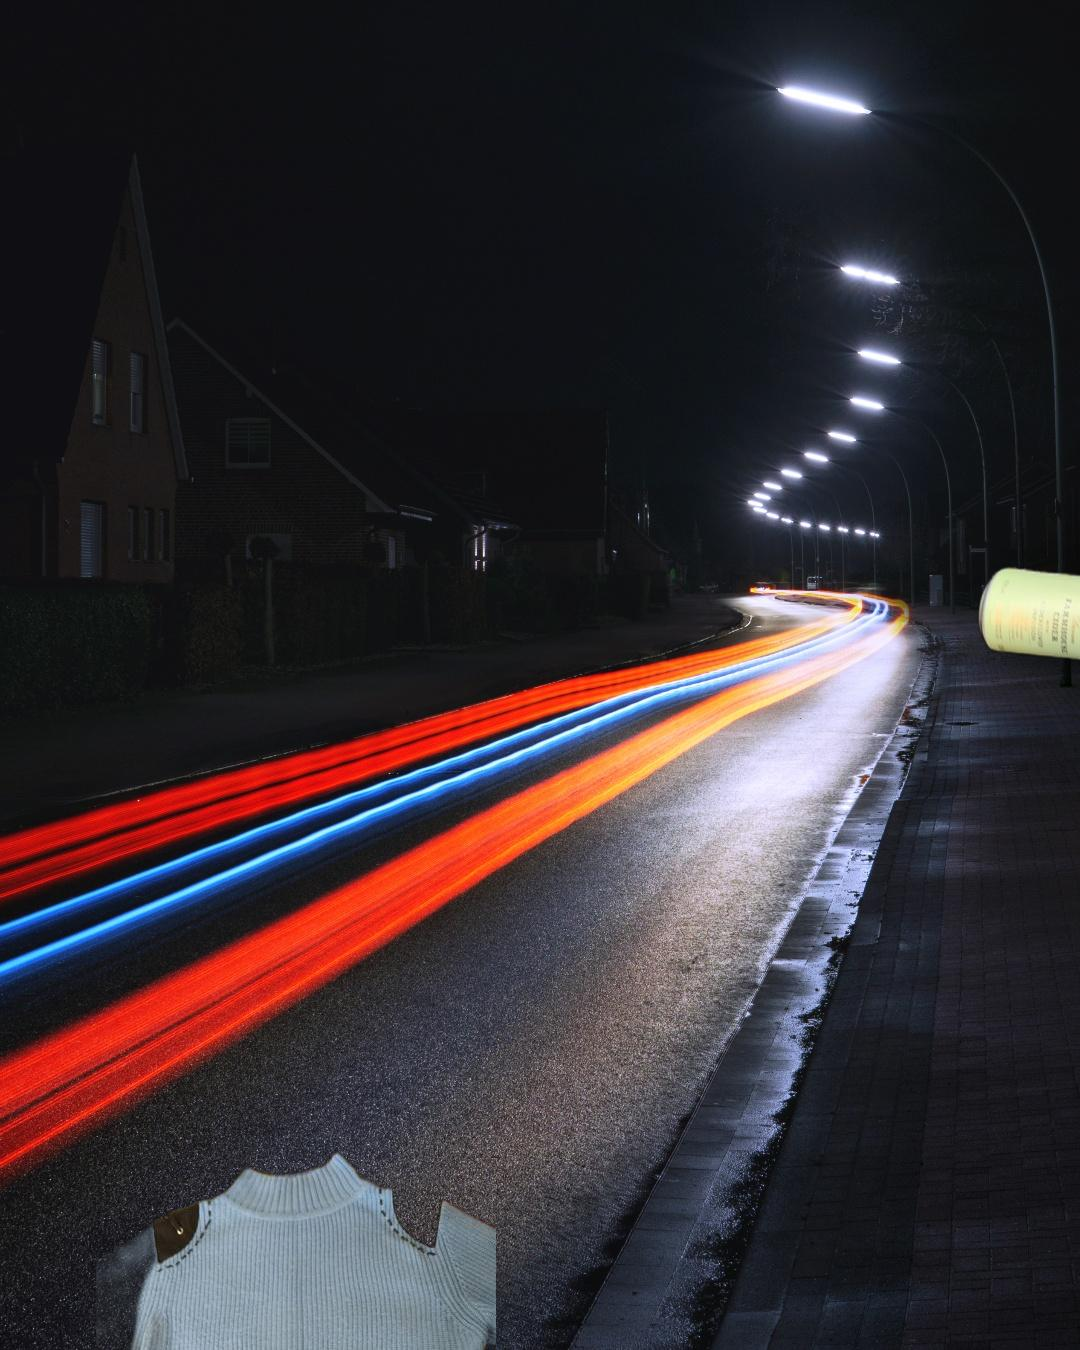clothes: (96, 1147, 496, 1350)
metal-cans: (973, 210, 1080, 893)
